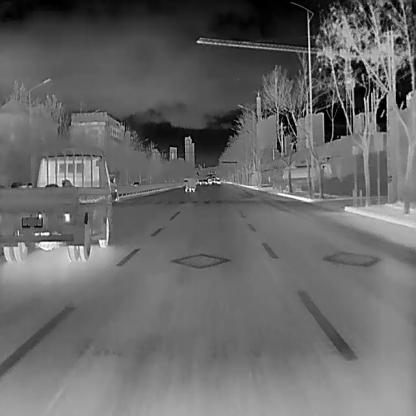car: (196, 178, 206, 184), (214, 176, 220, 186), (207, 176, 214, 184), (131, 180, 139, 186)
truck: (0, 146, 119, 261), (281, 156, 328, 186), (184, 178, 195, 192)
